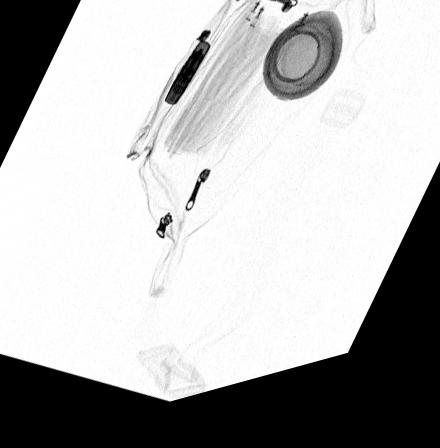Lighter: (164, 50, 211, 114)
